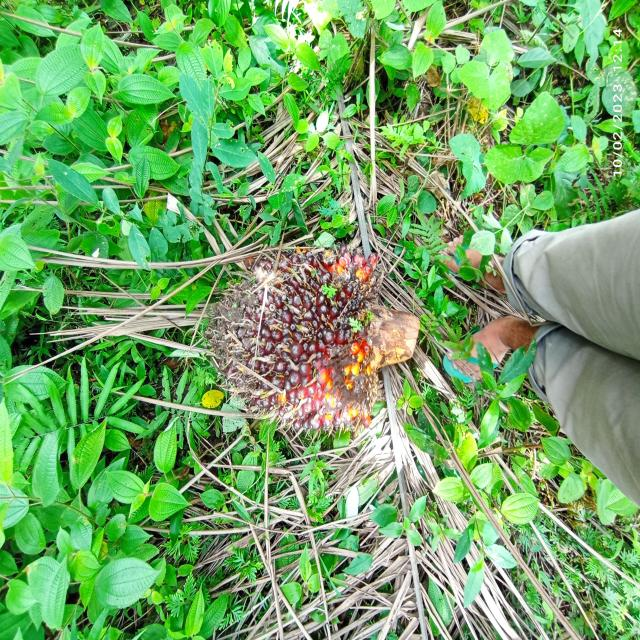fraksi 1: (199, 226, 427, 473)
